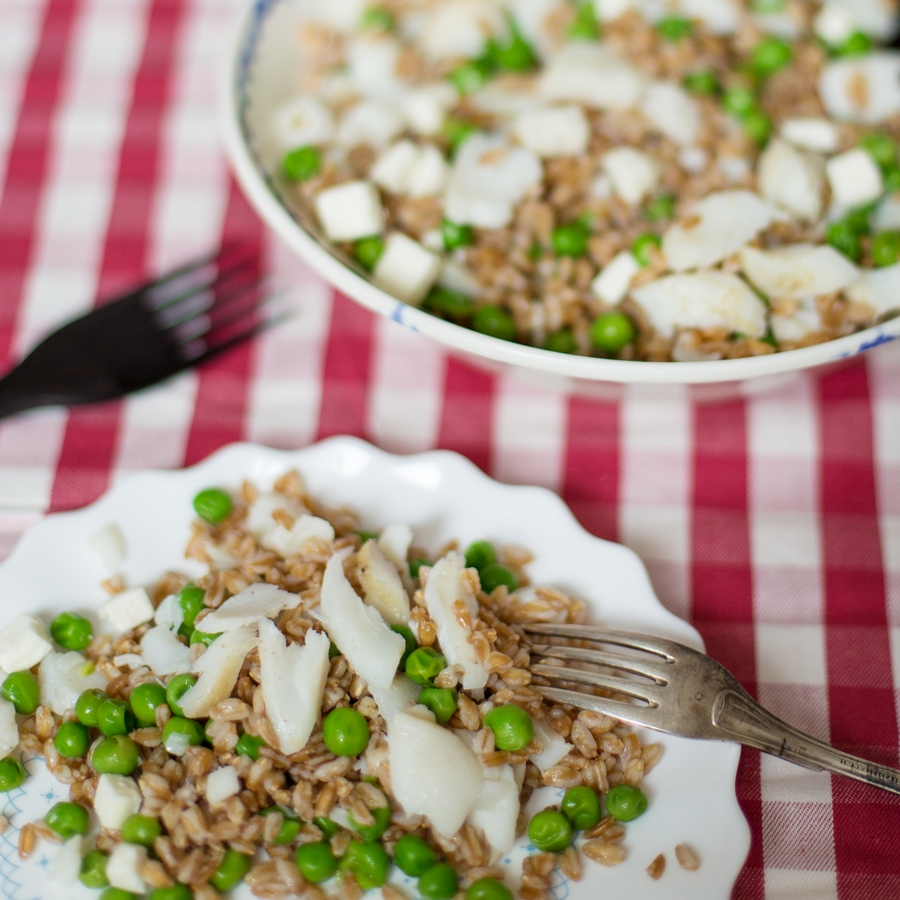boiled peas: (325, 848, 463, 882), (77, 704, 141, 775)
